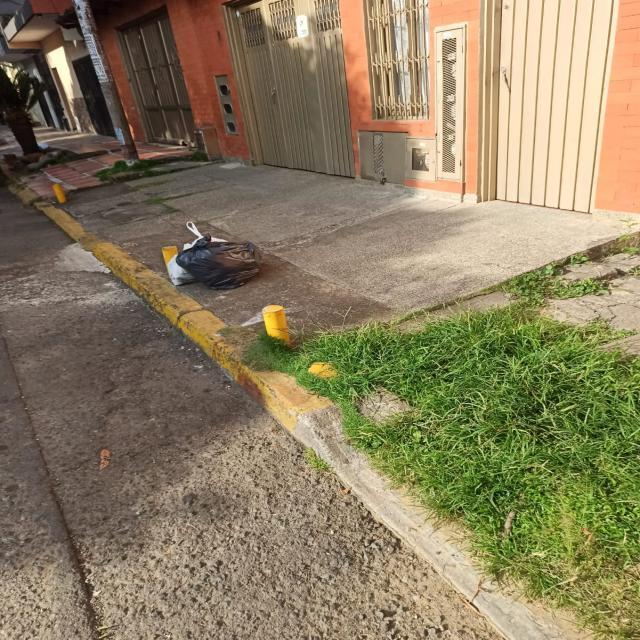Trashbag: (178, 234, 272, 296)
